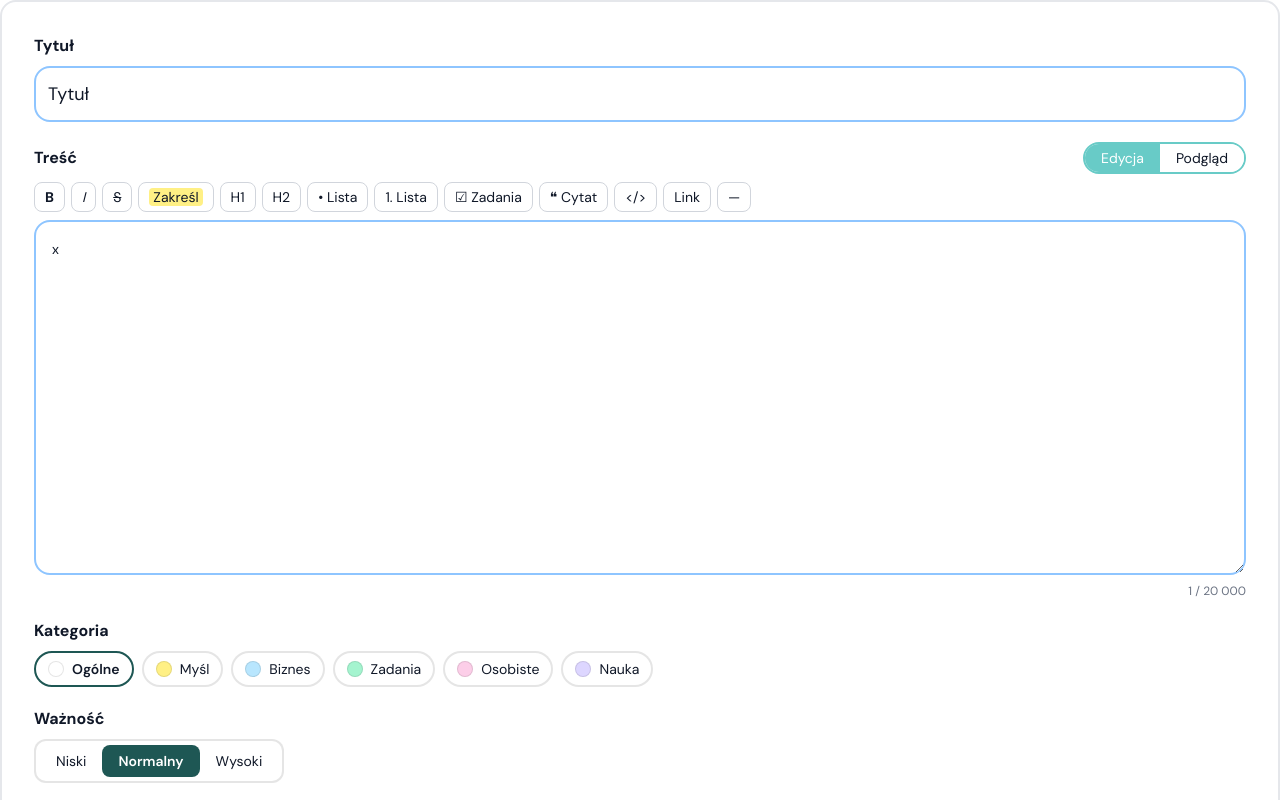
Test: NoteEditor — pasek formatowania › przycisk Kod
Step 1. Click the button titled "Kod" → point(636, 197), box [614,182,657,212]
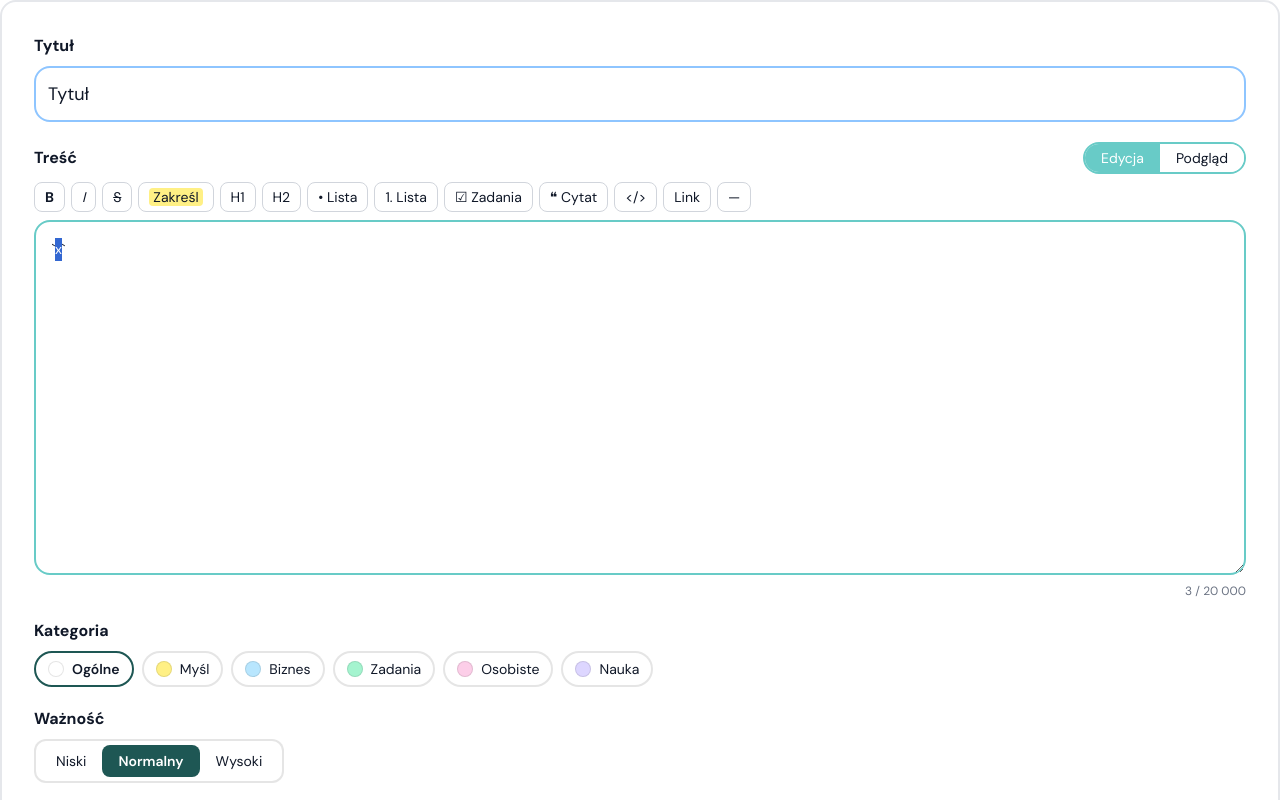
Now the text box with placeholder "Zacznij pisać" holds "`x`", box [34,220,1246,574]
